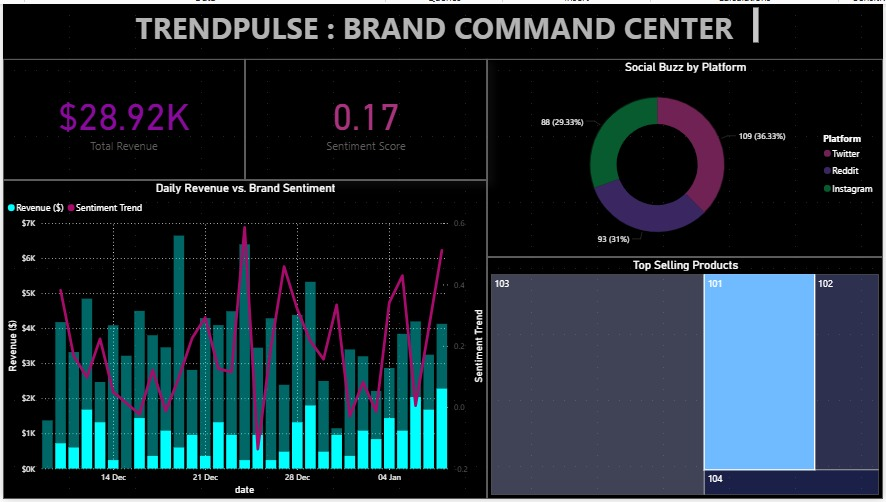

This screenshot's page, from the dashboard's own definition file:
{"tool":"powerbi","page":{"name":"Page 1","canvas":[1280,720],"ordinal":0},"visuals":[{"type":"card","fields":{"Values":["Sum(powerbi_sales.total_revenue)"]},"box":[0,80,352,176],"z":0},{"type":"card","fields":{"Values":["Avg(powerbi_social.sentiment_score)"]},"box":[352,80,352,176],"z":1},{"type":"lineClusteredColumnComboChart","title":"Daily Revenue vs. Brand Sentiment","fields":{"Category":["powerbi_sales.date"],"Y":["Sum(powerbi_sales.total_revenue)"],"Y2":["Avg(powerbi_social.sentiment_score)"]},"box":[0,256,704,464],"z":2},{"type":"donutChart","title":"Social Buzz by Platform","fields":{"Category":["powerbi_social.platform"],"Y":["CountNonNull(powerbi_social.content)"]},"box":[704,80,576,288],"z":3},{"type":"treemap","title":"Top Selling Products","fields":{"Group":["powerbi_sales.product_id"],"Values":["Sum(powerbi_sales.total_revenue)"]},"box":[704,368,576,352],"z":4},{"type":"textbox","box":[160,0,944,64],"z":5}]}

Visuals, with their boxes in screenshot pixels (x1, y1, x2, y2), scaled from the page's 1280x720 canvas onto the 886x502 screenshot:
card - Sum(powerbi_sales.total_revenue): (left=0, top=56, right=244, bottom=178)
card - Avg(powerbi_social.sentiment_score): (left=244, top=56, right=487, bottom=178)
"Daily Revenue vs. Brand Sentiment" lineClusteredColumnComboChart: (left=0, top=178, right=487, bottom=501)
"Social Buzz by Platform" donutChart: (left=487, top=56, right=885, bottom=257)
"Top Selling Products" treemap: (left=487, top=257, right=885, bottom=501)
textbox: (left=111, top=0, right=764, bottom=45)
